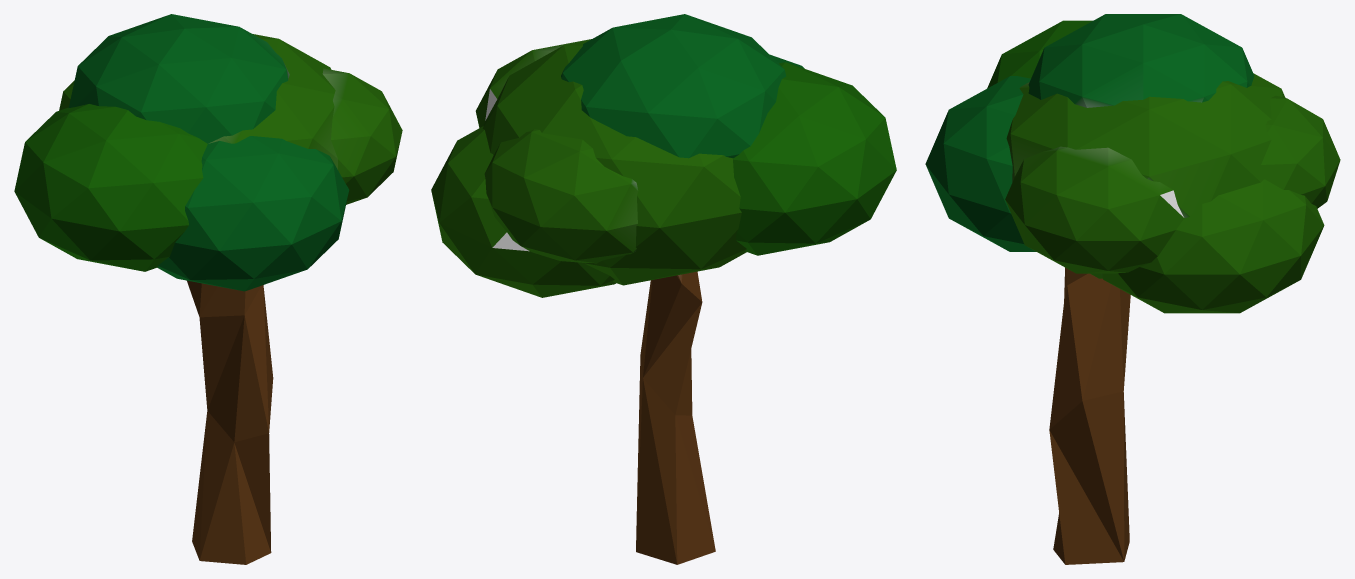
Rendered from tree.dae.
3 renders of one model, left to right at view 1: azimuth 30°, elevation 25°; view 2: azimuth 150°, elevation 25°; view 3: azimuth 270°, elevation 25°, orthographic. The views are drawn at different scales.
Parts seen in each view (by area): view 1: Icosphere_006, Icosphere_005, Plane, Icosphere_004, Icosphere_001, Icosphere; view 2: Icosphere_004, Icosphere, Icosphere_006, Plane, Icosphere_002, Icosphere_003, Icosphere_001; view 3: Plane, Icosphere, Icosphere_003, Icosphere_001, Icosphere_004, Icosphere_005, Icosphere_002, Icosphere_006.
Part boxes in pixels (x1,y1,x2,y2): Icosphere_006: (14,104,207,271); Icosphere_005: (157,136,349,291); Plane: (187,280,273,564); Icosphere_004: (68,14,289,143); Icosphere_001: (322,68,402,204); Icosphere: (59,34,337,169); Icosphere_004: (561,14,786,158); Icosphere: (482,40,746,285); Icosphere_006: (733,62,896,255); Plane: (636,271,715,564); Icosphere_002: (484,129,638,263); Icosphere_003: (431,126,615,297); Icosphere_001: (475,39,591,127); Plane: (1049,267,1130,564); Icosphere: (1006,73,1285,278); Icosphere_003: (1101,179,1324,313); Icosphere_001: (1005,146,1184,273); Icosphere_004: (1028,14,1254,107); Icosphere_005: (925,76,1036,251); Icosphere_002: (1261,95,1340,208); Icosphere_006: (987,20,1092,88).
Bounding box in the file's own units: 11.58 × 11.44 × 15.71.
